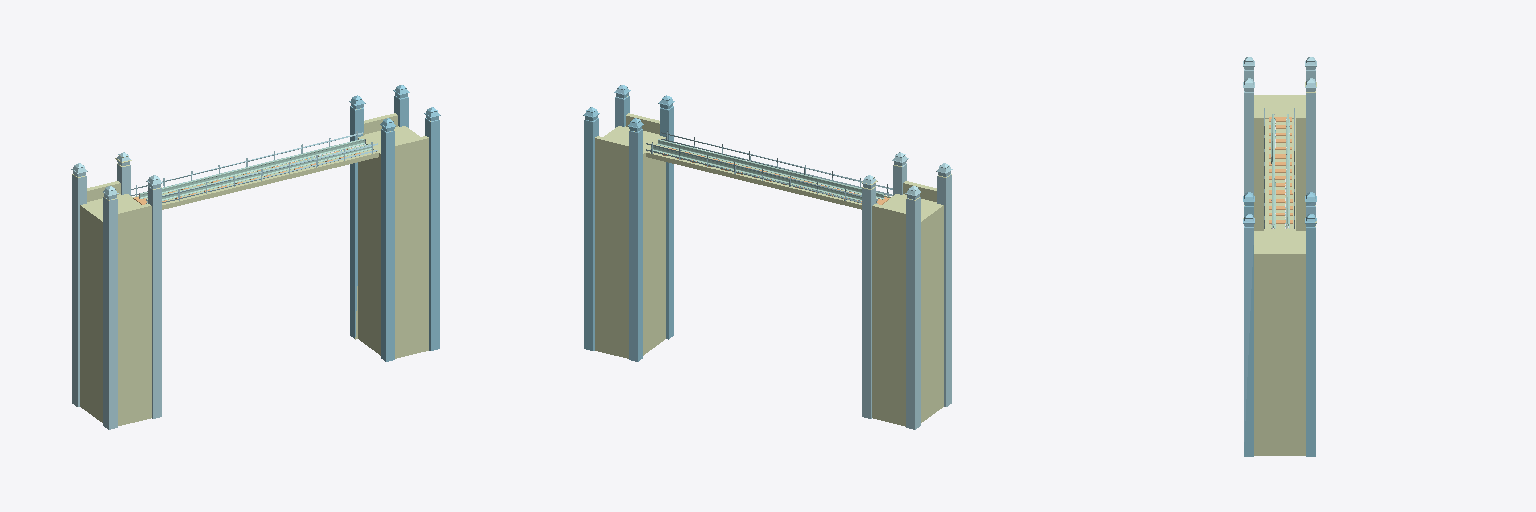
The picture shows the model from 3 angles: view 1: azimuth 30°, elevation 25°; view 2: azimuth 150°, elevation 25°; view 3: azimuth 270°, elevation 25°; orthographic projection.
Parts seen in each view (by area): view 1: pCube2206, pCube2207, bridge1, pCube50; view 2: pCube2206, pCube2207, bridge1, pCube50; view 3: pCube2207, pCube2206, bridge1.
Boxes of the visible parts, box(x1,y1,x2,y2) form: pCube2206: box(71, 152, 162, 429); pCube2207: box(349, 85, 440, 361); bridge1: box(131, 145, 378, 209); pCube50: box(131, 131, 377, 202); pCube2206: box(861, 152, 952, 429); pCube2207: box(583, 85, 674, 361); bridge1: box(646, 145, 892, 209); pCube50: box(646, 131, 892, 202); pCube2207: box(1243, 192, 1316, 456); pCube2206: box(1243, 57, 1316, 230); bridge1: box(1264, 118, 1295, 230).
Bounding box in the file's own units: 159 × 110 × 30.61.
Materials: 2 (1 with a texture image).